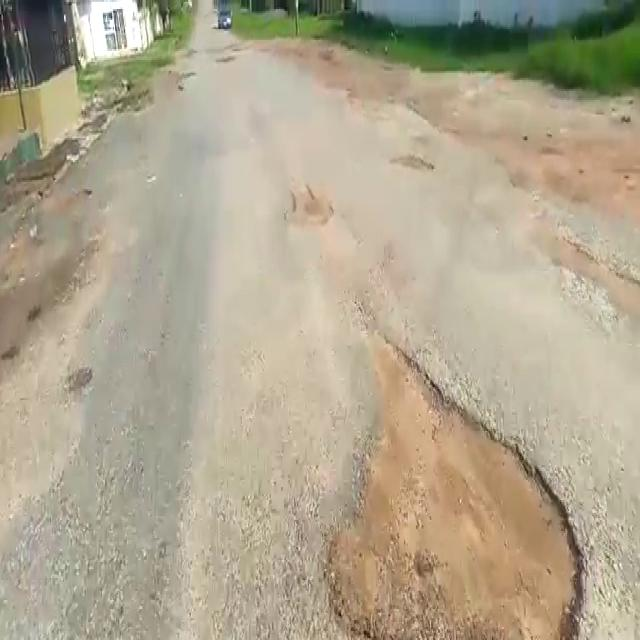Pothole: (326, 330, 586, 640), (282, 186, 336, 232), (389, 152, 433, 179)
